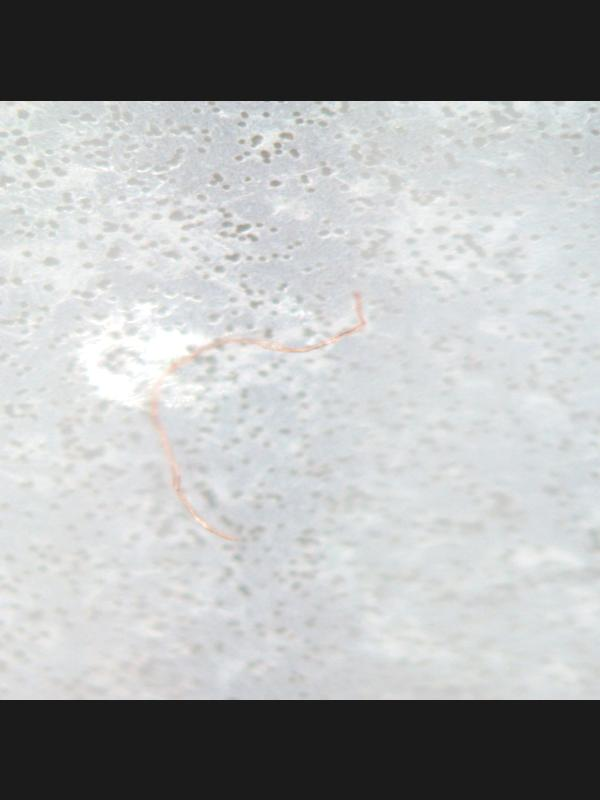microplastic: (0, 102, 600, 699), (142, 290, 369, 542)
